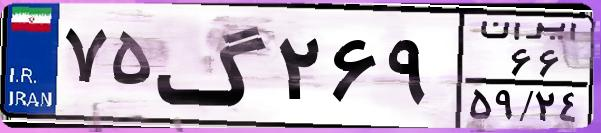2: (270, 28, 330, 110), (535, 70, 560, 125)
4: (560, 70, 590, 125)
5: (110, 28, 156, 98), (470, 70, 495, 125)
6: (330, 28, 385, 110), (537, 27, 568, 80), (508, 27, 537, 80)
7: (57, 26, 110, 100)
9: (385, 28, 445, 110), (495, 70, 520, 125)
گ: (156, 12, 270, 120)
